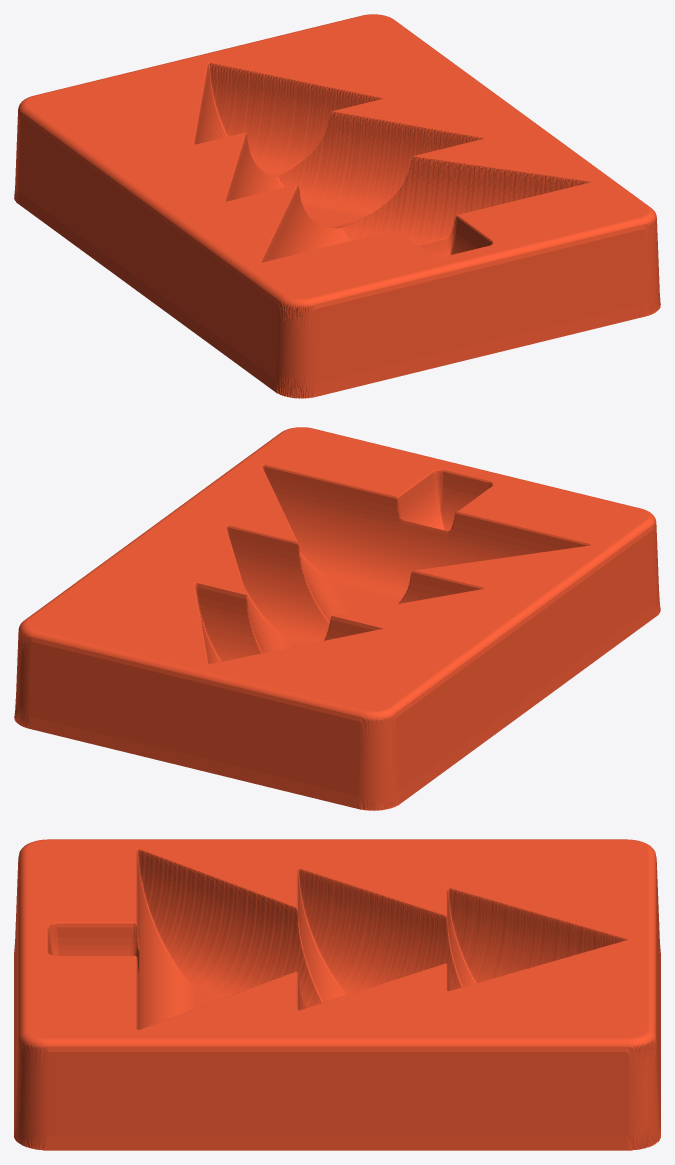
Rendered from mold.glb.
The picture shows the model from 3 angles, top to bottom: view 1: azimuth 30°, elevation 25°; view 2: azimuth 150°, elevation 25°; view 3: azimuth 270°, elevation 25°; orthographic projection. The views are drawn at different scales.
Parts seen in each view (by area): view 1: geometry_0; view 2: geometry_0; view 3: geometry_0.
Part boxes in pixels (x1,y1,x2,y2): geometry_0: [14, 14, 660, 398]; geometry_0: [14, 427, 660, 810]; geometry_0: [14, 839, 660, 1150].
Bounding box in the file's own units: 0.131 × 0.031 × 0.1709.
